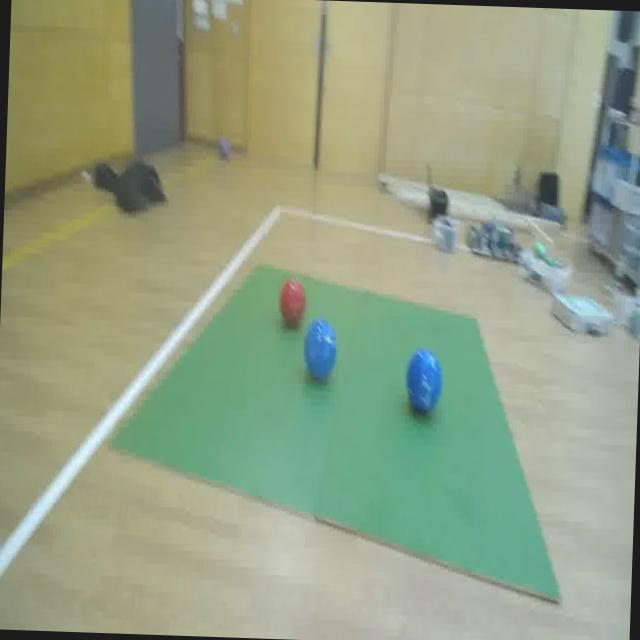blue_ball: (403, 346, 442, 416), (300, 318, 340, 382)
purple_ball: (217, 141, 230, 158)
red_ball: (276, 275, 308, 329)
